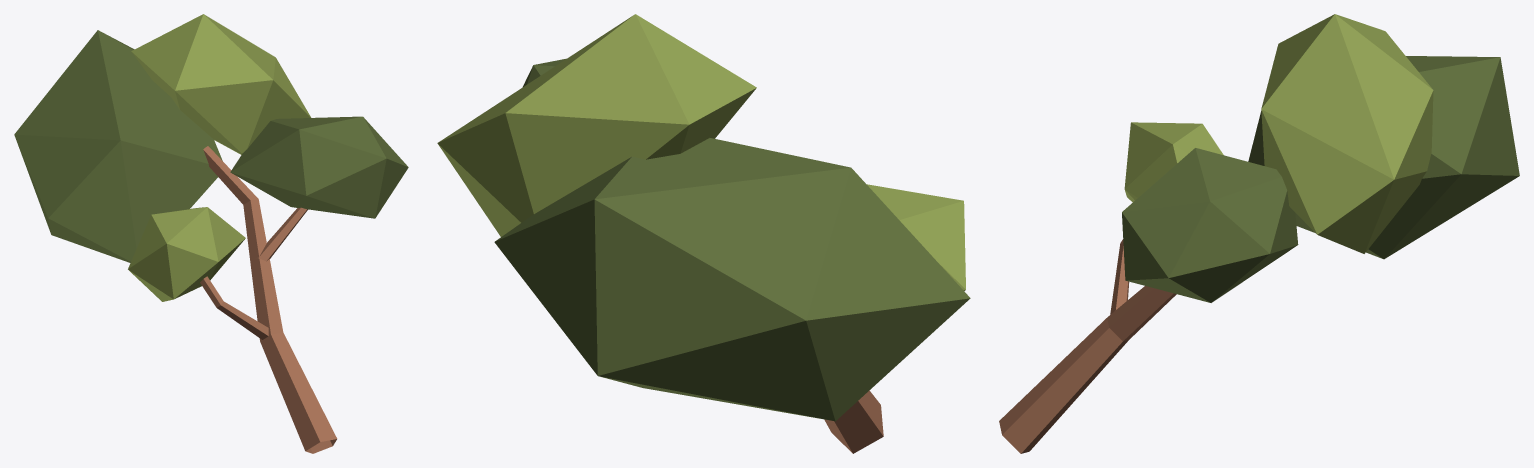
Rendered from LowPolyTree.glb.
The picture shows the model from 3 angles, left to right: view 1: azimuth 30°, elevation 25°; view 2: azimuth 150°, elevation 25°; view 3: azimuth 270°, elevation 25°; orthographic projection. The views are drawn at different scales.
Parts seen in each view (by area): view 1: tree01; view 2: tree01; view 3: tree01.
Part boxes in pixels (x1,y1,x2,y2): tree01: (14,14,408,453); tree01: (437,14,970,453); tree01: (999,14,1519,453).
Bounding box in the file's own units: 1.78 × 1.87 × 1.99.
Materials: 1 (1 with a texture image).
